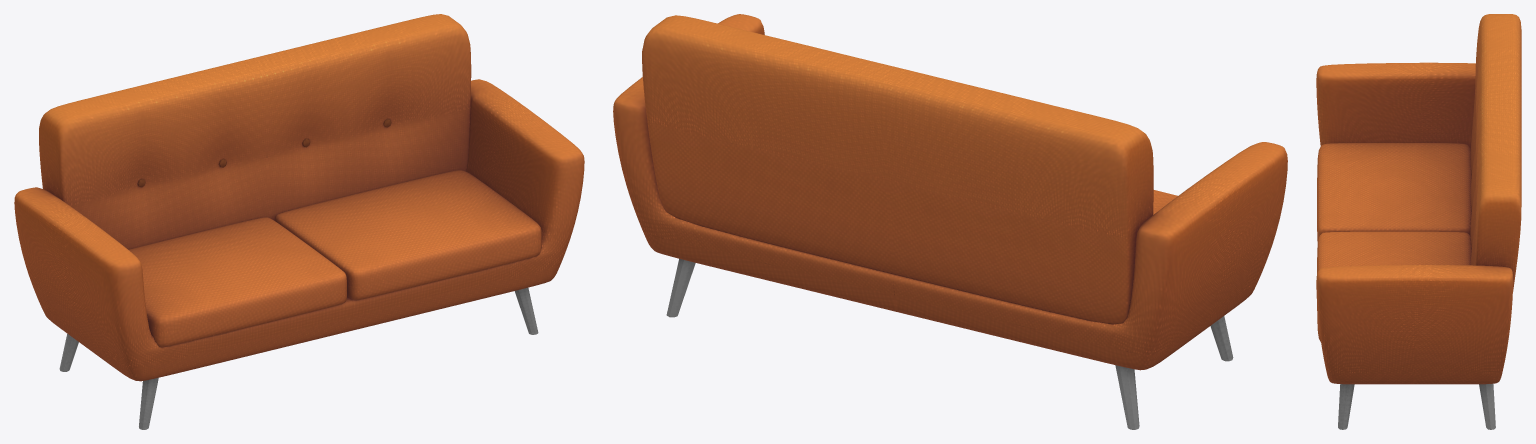
Rendered from sofa-3.glb.
3 views of the same model, side by side, from view 1: azimuth 30°, elevation 25°; view 2: azimuth 150°, elevation 25°; view 3: azimuth 270°, elevation 25° (orthographic). The views are drawn at different scales.
Visible parts, largest first — view 1: Sofa_Sofa_0; view 2: Sofa_Sofa_0; view 3: Sofa_Sofa_0.
Part boxes in pixels (box(x1,y1,x2,y2)): Sofa_Sofa_0: box(14, 14, 584, 429); Sofa_Sofa_0: box(613, 14, 1287, 429); Sofa_Sofa_0: box(1316, 14, 1521, 429).
Size of the model in its own units: 2.47 by 1.26 by 0.984.
1 material, 1 textured.
